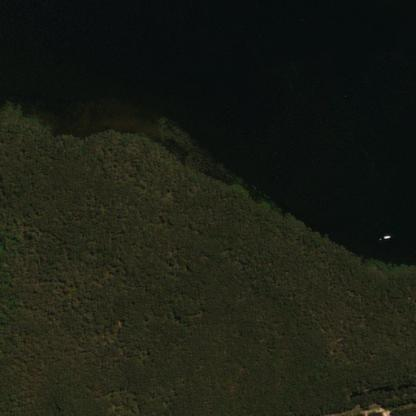ship: (374, 226, 394, 244)
